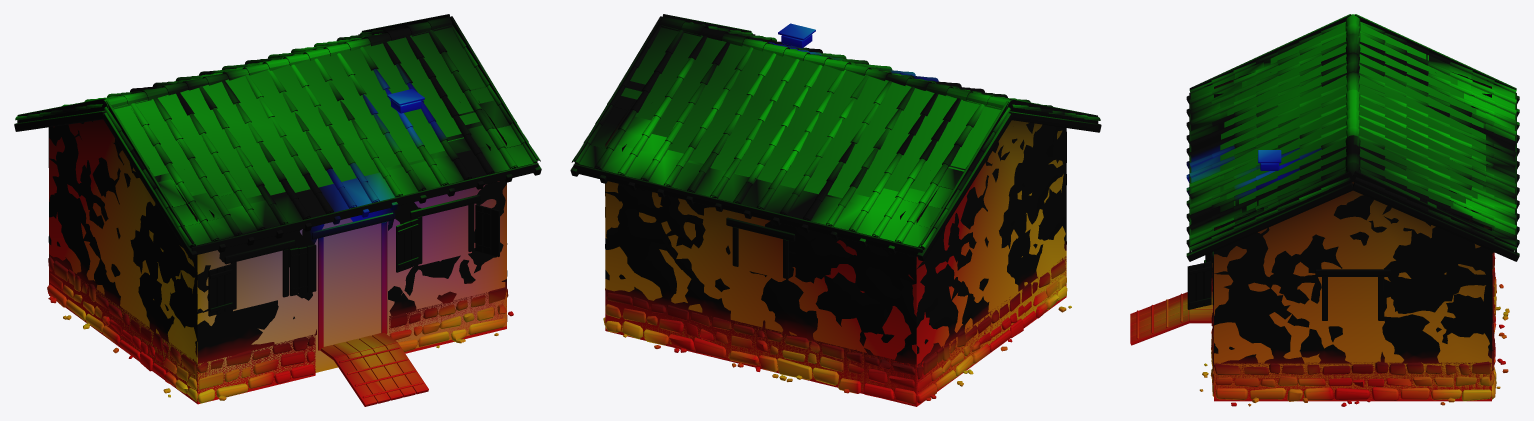
Rendered from valdora_t1_rubble.glb.
The picture shows the model from 3 angles, left to right: view 1: azimuth 30°, elevation 25°; view 2: azimuth 150°, elevation 25°; view 3: azimuth 270°, elevation 25°; orthographic projection. The views are drawn at different scales.
Parts seen in each view (by area): view 1: valdora_t1_rubble_shell, valdora_t1_rubble_far, valdora_t1_rubble_detail; view 2: valdora_t1_rubble_shell, valdora_t1_rubble_far, valdora_t1_rubble_detail; view 3: valdora_t1_rubble_shell, valdora_t1_rubble_far, valdora_t1_rubble_detail.
Boxes of the visible parts, <box> form: valdora_t1_rubble_shell: <box>14,14,541,406</box>; valdora_t1_rubble_far: <box>49,25,506,396</box>; valdora_t1_rubble_detail: <box>48,89,513,400</box>; valdora_t1_rubble_shell: <box>570,14,1101,406</box>; valdora_t1_rubble_far: <box>605,25,1066,403</box>; valdora_t1_rubble_detail: <box>623,23,1071,400</box>; valdora_t1_rubble_shell: <box>1130,14,1519,401</box>; valdora_t1_rubble_far: <box>1214,23,1491,398</box>; valdora_t1_rubble_detail: <box>1199,150,1509,406</box>.
Bounding box in the file's own units: 6.83 × 4.74 × 7.01.
